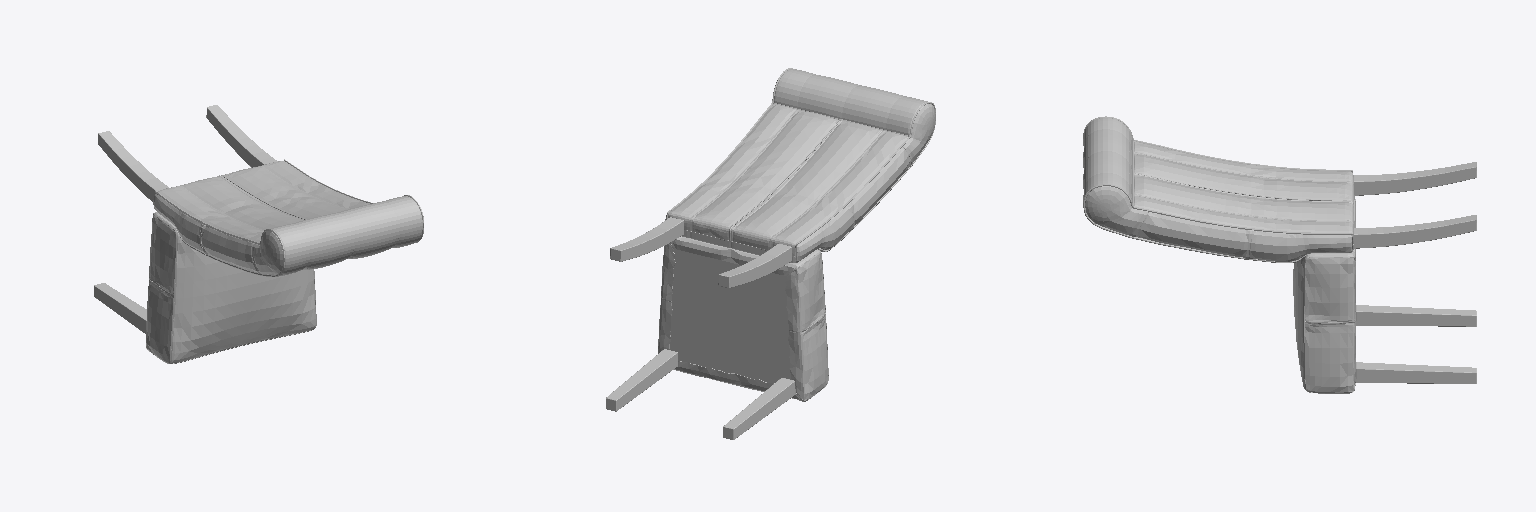
The model's file is dining_chair_02.obj.
3 views of the same model, side by side, from view 1: azimuth 30°, elevation 25°; view 2: azimuth 150°, elevation 25°; view 3: azimuth 270°, elevation 25° (orthographic).
Visible parts, largest first — view 1: dining_chair_02; view 2: dining_chair_02; view 3: dining_chair_02.
Boxes of the visible parts, box(x1,y1,x2,y2) form: dining_chair_02: box(94, 105, 423, 363); dining_chair_02: box(606, 68, 935, 439); dining_chair_02: box(1083, 116, 1476, 393).
Bounding box in the file's own units: 0.4336 × 0.5764 × 0.9734.